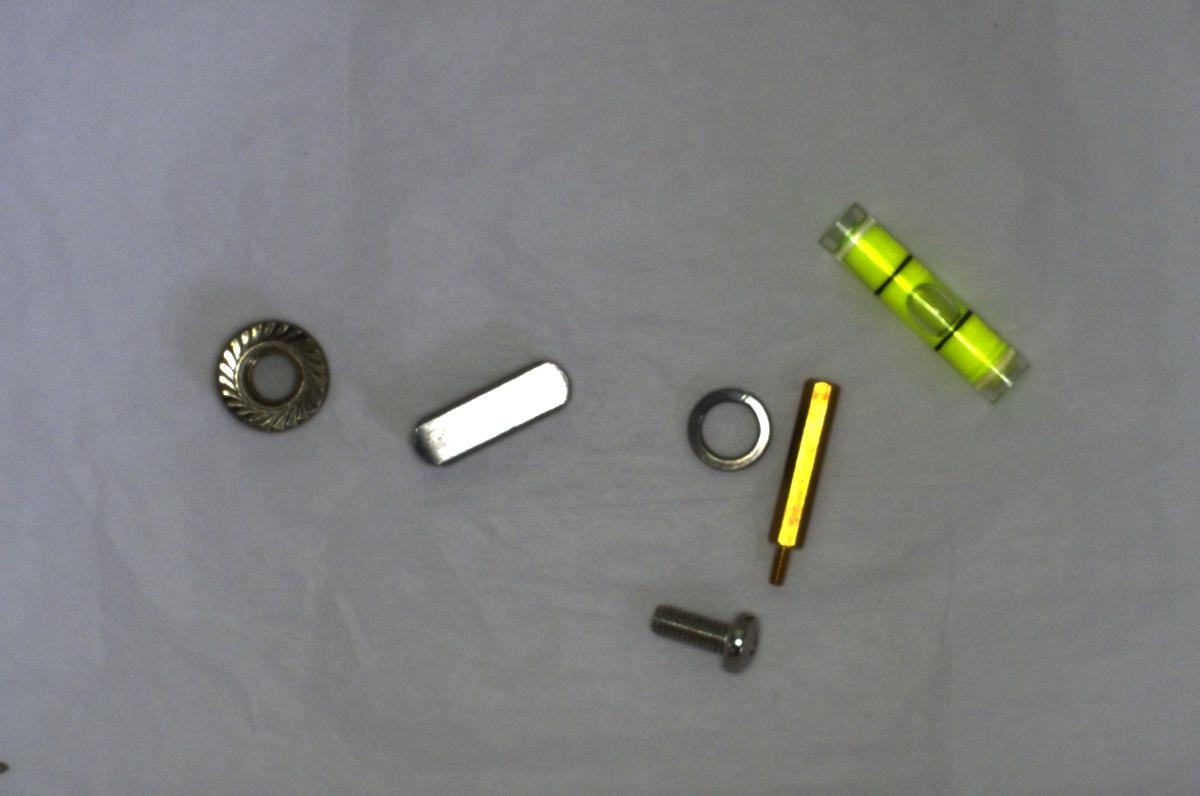Flange nut: (201, 316, 337, 438)
Hexagon pillar: (762, 374, 835, 586)
Horizontal bubble: (807, 190, 1033, 410)
Keybar: (401, 349, 575, 468)
Round head screw: (641, 588, 774, 679)
Spring washer: (680, 380, 773, 474)
